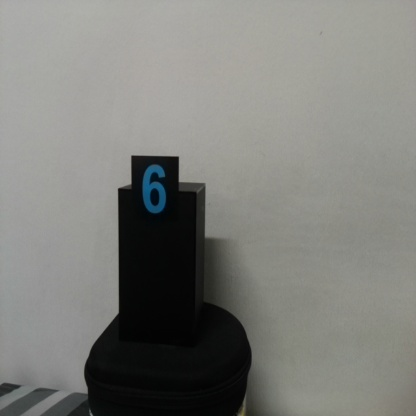id_6: (131, 156, 181, 229)
